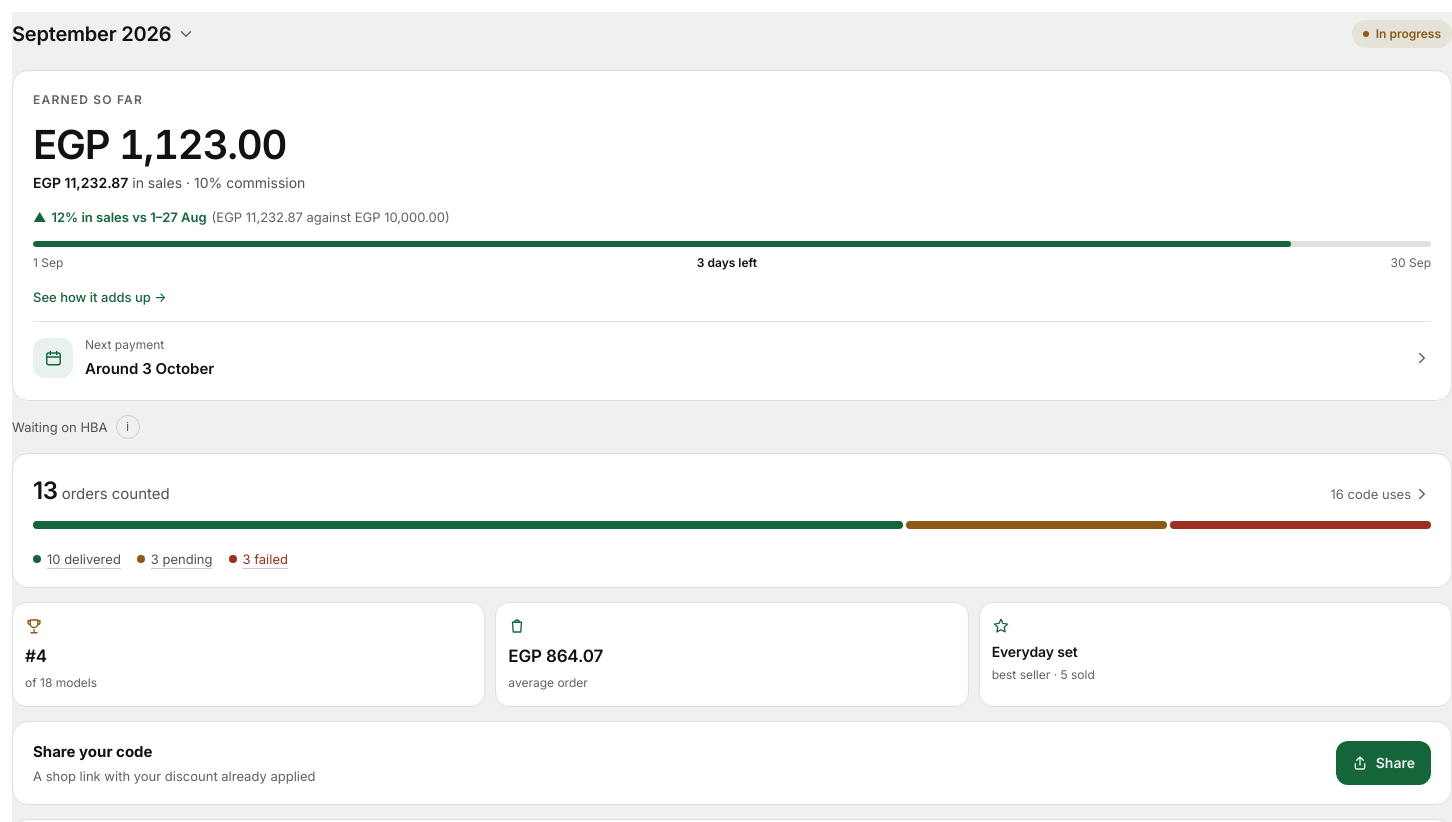
Home › keeps what the month is waiting on behind an ⓘ
Expected: the text "Waiting on HBA" is shown, [12,417,108,437]
Expected: the text "Nobody has recorded what you posted this month yet." is not shown
Click the button named "What this month is waiting on".
click(128, 427)  # box [116,415,140,439]
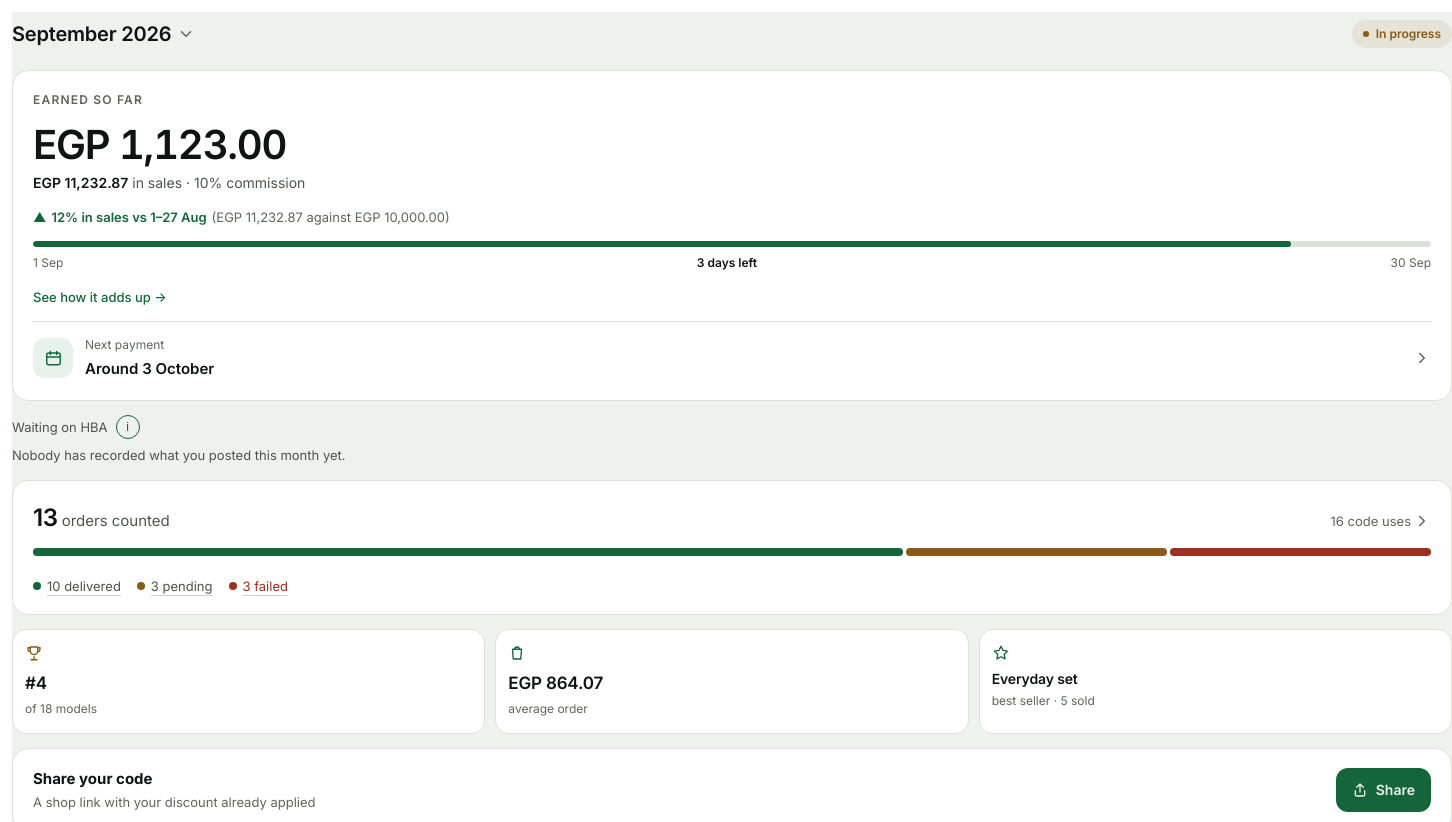
Expected: the text "Nobody has recorded what you posted this month yet." is shown, [12,447,346,463]
